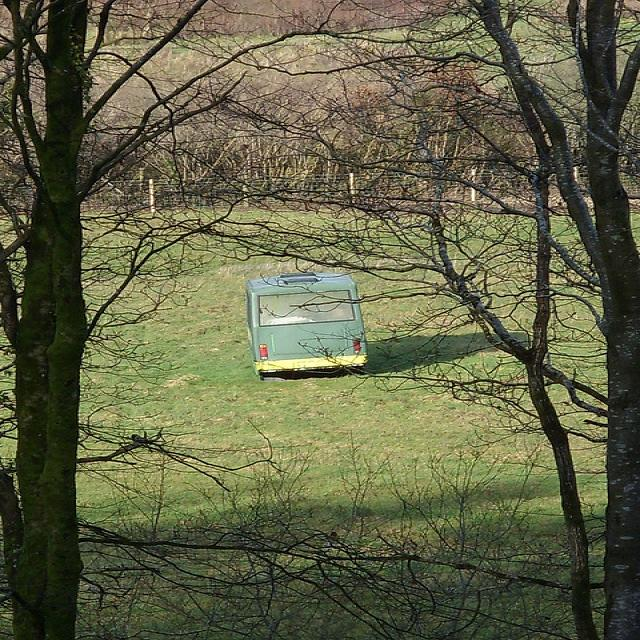Vehicle: (251, 271, 375, 379), (245, 272, 368, 377)
